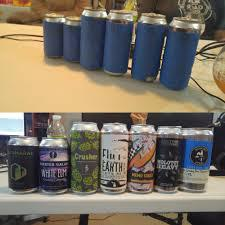beer: (182, 122, 214, 194), (71, 122, 100, 194), (100, 122, 128, 194), (38, 135, 70, 195), (155, 122, 181, 195), (128, 122, 154, 194), (6, 135, 38, 192)
